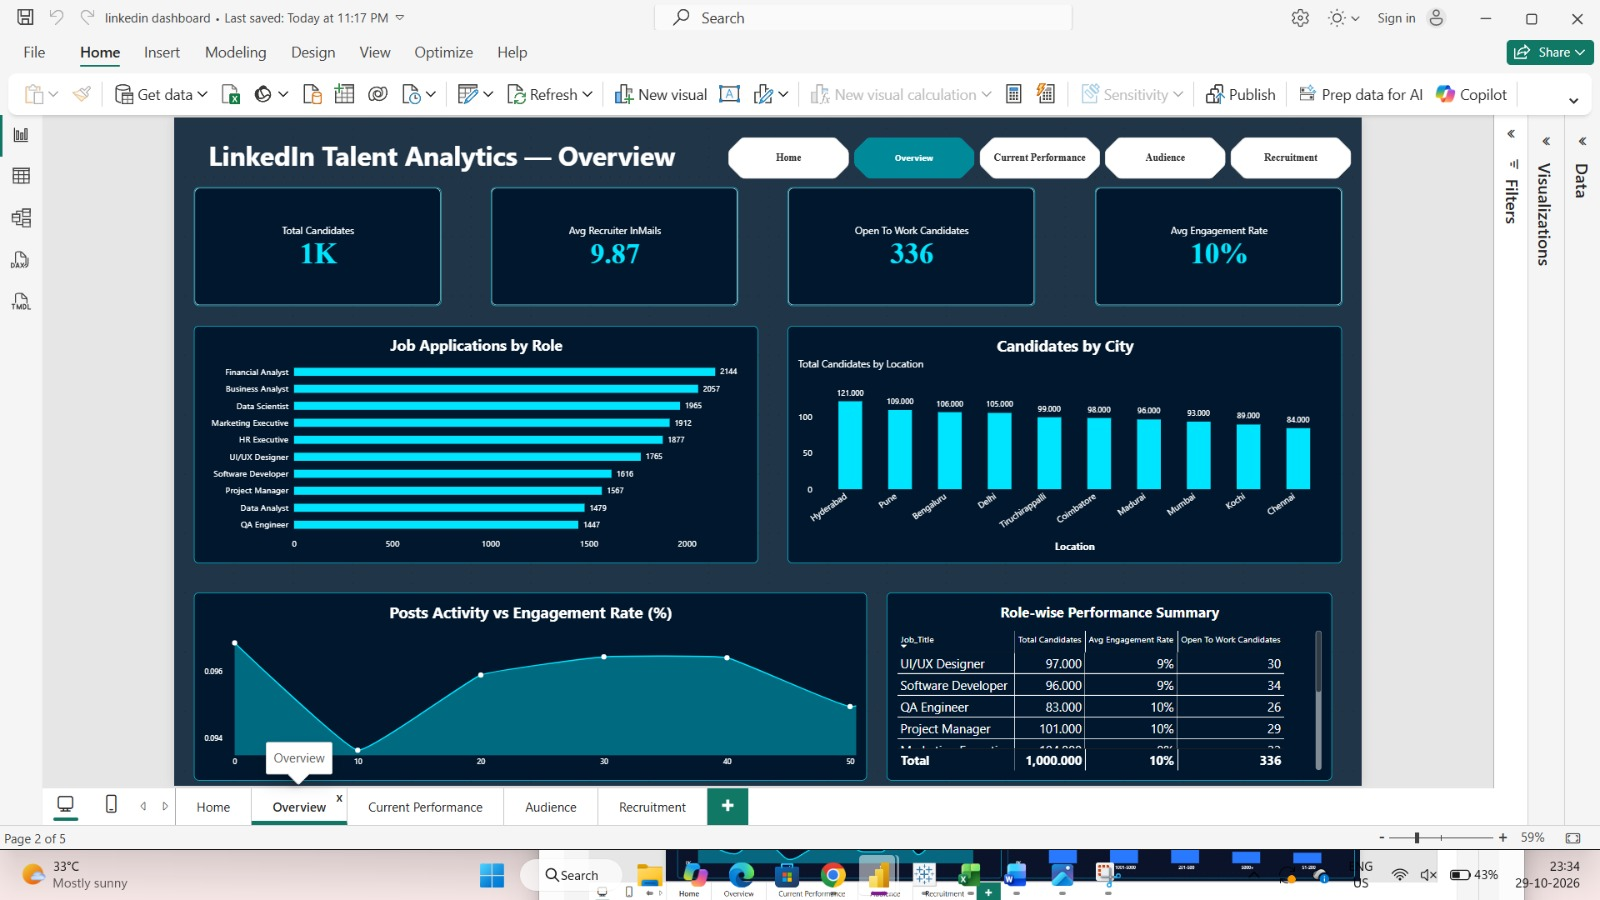

This screenshot's page, from the dashboard's own definition file:
{"tool":"powerbi","page":{"name":"Overview","canvas":[1920,1080],"ordinal":1},"visuals":[{"type":"cardVisual","fields":{"Data":["Linkedin_dataset_csv.Total Candidates"]},"box":[32,112,400,192],"z":0},{"type":"cardVisual","fields":{"Data":["Linkedin_dataset_csv.Avg Recruiter InMails"]},"box":[512,112,400,192],"z":1000},{"type":"cardVisual","fields":{"Data":["Linkedin_dataset_csv.Avg Engagement Rate"]},"box":[1488,112,400,192],"z":2000},{"type":"cardVisual","fields":{"Data":["Linkedin_dataset_csv.Open To Work Candidates"]},"box":[992,112,400,192],"z":3000},{"type":"clusteredBarChart","title":"Job Applications by Role","fields":{"Category":["Linkedin_dataset_csv.Job_Title"],"Y":["Sum(Linkedin_dataset_csv.Job_Applications_Last_90_Days)"]},"box":[32,336,912,384],"z":4000},{"type":"columnChart","title":"Candidates by City","fields":{"Category":["Linkedin_dataset_csv.Location"],"Y":["Linkedin_dataset_csv.Total Candidates"]},"box":[992,336,896,384],"z":5000},{"type":"stackedAreaChart","title":"Posts Activity vs Engagement Rate (%)","fields":{"Category":["Linkedin_dataset_csv.Posts_Last_Year (bins)"],"Y":["Linkedin_dataset_csv.Smoothed Engagement Rate"]},"box":[32,768,1088,304],"z":6000},{"type":"tableEx","title":"Role-wise Performance Summary","fields":{"Values":["Linkedin_dataset_csv.Job_Title","Linkedin_dataset_csv.Total Candidates","Linkedin_dataset_csv.Avg Engagement Rate","Linkedin_dataset_csv.Open To Work Candidates"]},"box":[1136,768,736,304],"z":7000},{"type":"textbox","box":[16,32,832,64],"z":8000},{"type":"pageNavigator","box":[896,32,1008,67],"z":9000}]}

Visuals, with their boxes on the page's 1920x1080 design canvas (x1, y1, x2, y2). These are canvas units, not pixel positions in the 1600x900 screenshot, which may show the page scaled, cropped or inside an application window:
cardVisual - Linkedin_dataset_csv.Total Candidates: {"left": 32, "top": 112, "right": 432, "bottom": 304}
cardVisual - Linkedin_dataset_csv.Avg Recruiter InMails: {"left": 512, "top": 112, "right": 912, "bottom": 304}
cardVisual - Linkedin_dataset_csv.Avg Engagement Rate: {"left": 1488, "top": 112, "right": 1888, "bottom": 304}
cardVisual - Linkedin_dataset_csv.Open To Work Candidates: {"left": 992, "top": 112, "right": 1392, "bottom": 304}
"Job Applications by Role" clusteredBarChart: {"left": 32, "top": 336, "right": 944, "bottom": 720}
"Candidates by City" columnChart: {"left": 992, "top": 336, "right": 1888, "bottom": 720}
"Posts Activity vs Engagement Rate (%)" stackedAreaChart: {"left": 32, "top": 768, "right": 1120, "bottom": 1072}
"Role-wise Performance Summary" tableEx: {"left": 1136, "top": 768, "right": 1872, "bottom": 1072}
textbox: {"left": 16, "top": 32, "right": 848, "bottom": 96}
pageNavigator: {"left": 896, "top": 32, "right": 1904, "bottom": 99}
